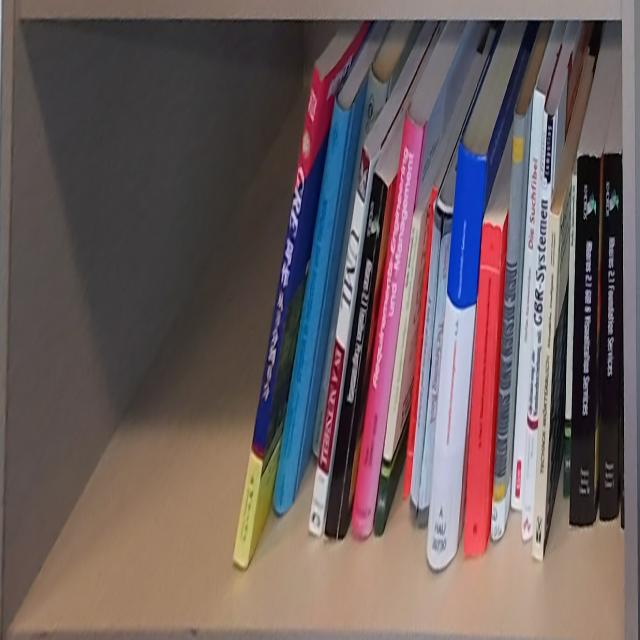Book Spine: (232, 60, 321, 568), (273, 96, 350, 513), (351, 113, 425, 542), (426, 138, 486, 571), (307, 143, 371, 539), (325, 171, 389, 540), (373, 213, 424, 536), (522, 109, 559, 542), (492, 109, 527, 540), (510, 88, 545, 512), (464, 223, 503, 556), (569, 155, 601, 526), (408, 208, 443, 520), (403, 184, 437, 501), (418, 216, 452, 528), (532, 209, 561, 565), (600, 153, 623, 520), (563, 176, 577, 496)
